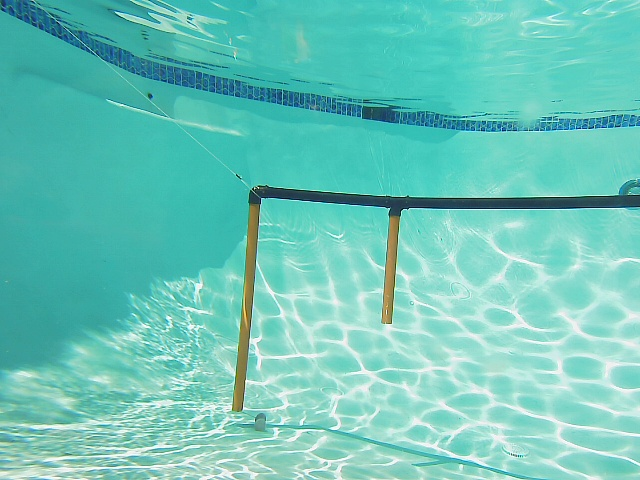Gate: (231, 200, 262, 412), (381, 210, 401, 325)
